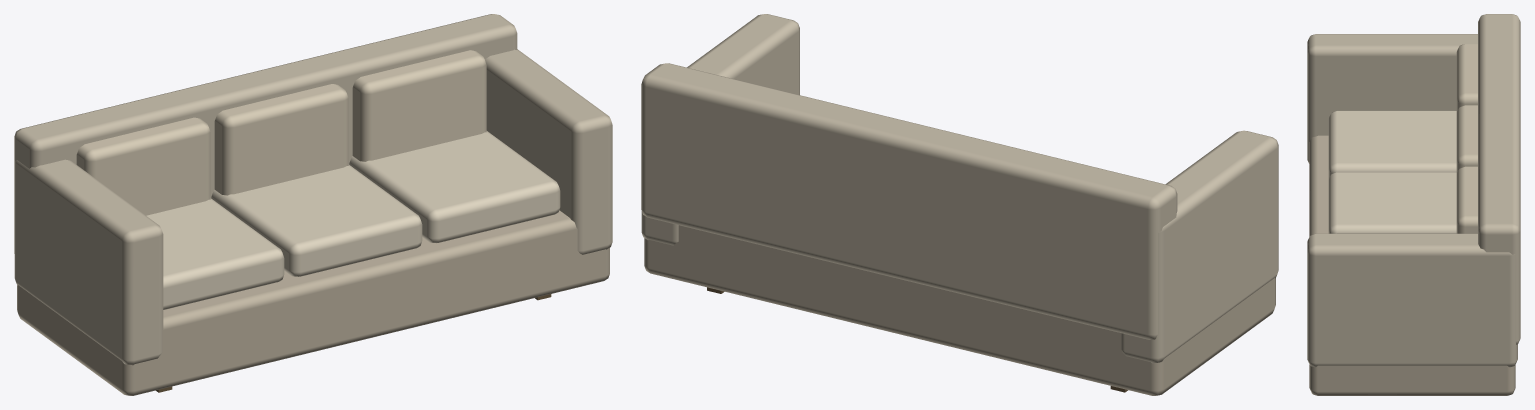
Rendered from essyra-sofa.glb.
The picture shows the model from 3 angles, left to right: view 1: azimuth 30°, elevation 25°; view 2: azimuth 150°, elevation 25°; view 3: azimuth 270°, elevation 25°; orthographic projection. The views are drawn at different scales.
Visible parts, largest first — view 1: ESSYRA original approximate sofa; view 2: ESSYRA original approximate sofa; view 3: ESSYRA original approximate sofa.
Part boxes in pixels (box(x1,y1,x2,y2)): ESSYRA original approximate sofa: box(14, 14, 612, 395); ESSYRA original approximate sofa: box(641, 14, 1278, 395); ESSYRA original approximate sofa: box(1307, 14, 1520, 395).
Size of the model in its own units: 3.62 by 1.43 by 1.5.
